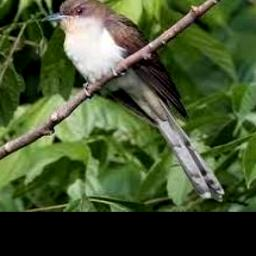Cuckoo: (43, 0, 225, 203)
